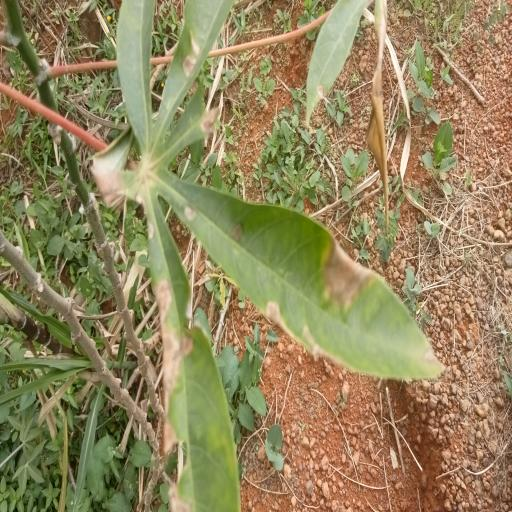Cassava_Root_Rot: (94, 0, 434, 512)
